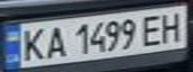1: (69, 20, 90, 55)
4: (87, 18, 109, 54)
9: (118, 16, 142, 51), (103, 17, 124, 53)
A: (42, 22, 69, 60)
E: (136, 11, 169, 47)
H: (157, 8, 190, 43)
K: (15, 25, 48, 62)
